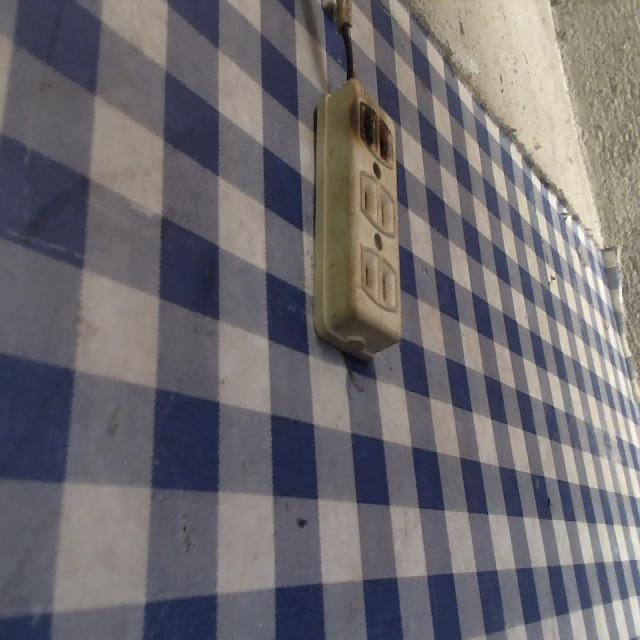-: (350, 92, 405, 171)
